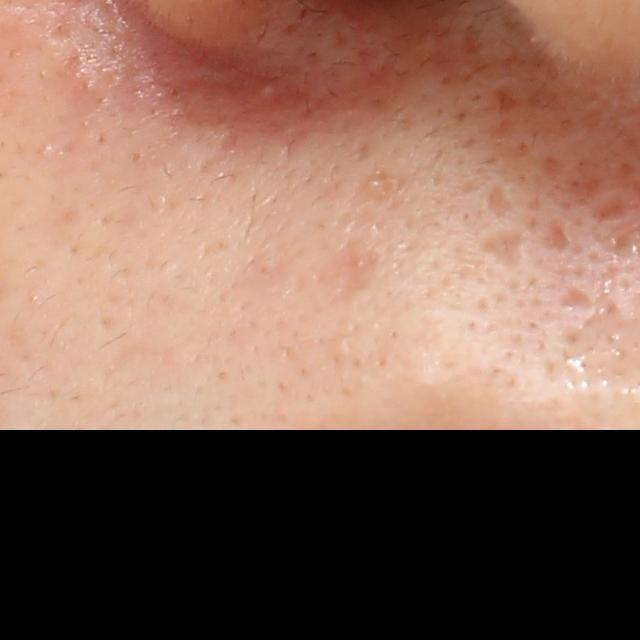atrophic_scar: (316, 241, 379, 309), (466, 227, 530, 272), (552, 285, 603, 317), (541, 213, 577, 257), (583, 190, 631, 222), (484, 181, 515, 220)
